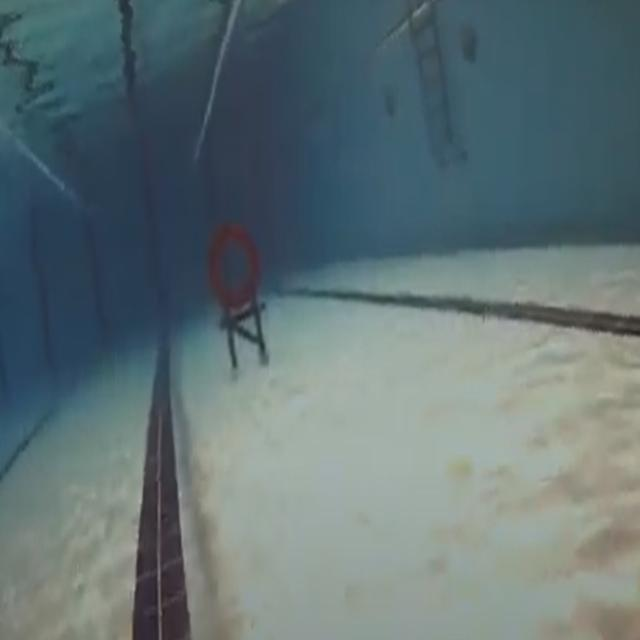Circle: (204, 218, 264, 312)
